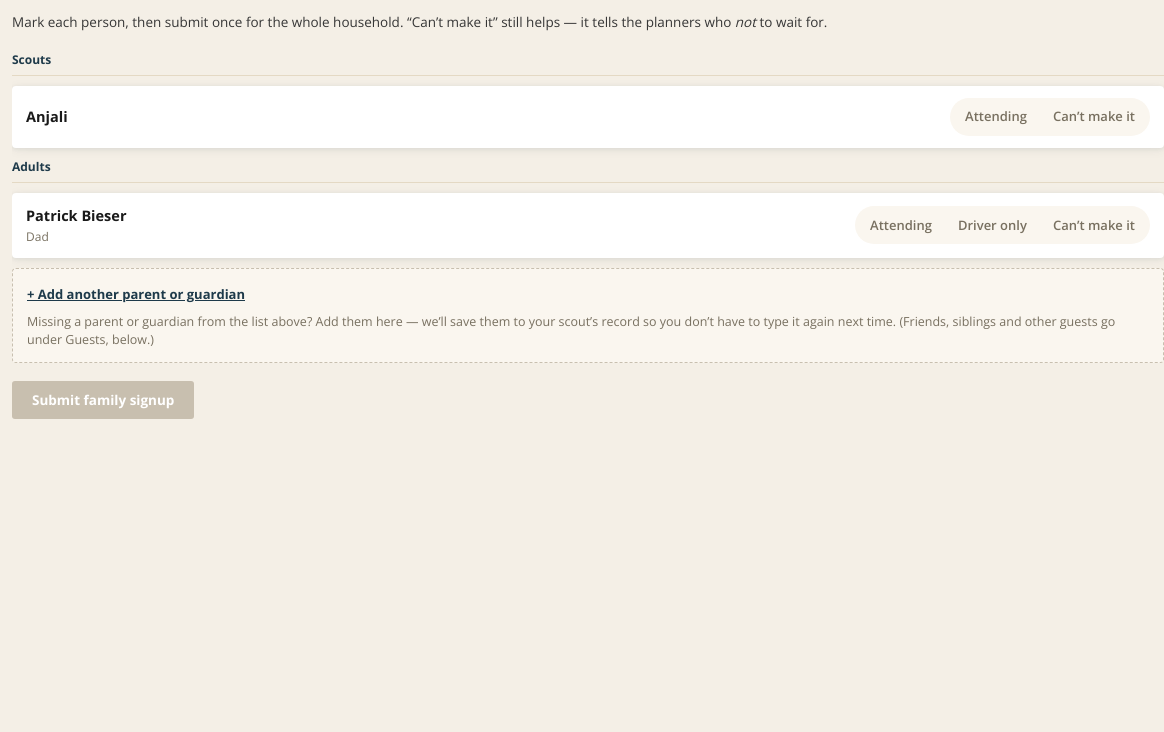
Test: PersonFirstForm — leg times › EarlierChoice_OnTheBackLeg_IsOfferedBesideTheStatus
The image size is (1164, 732).
Click the button "Attending" in the row of "Anjali" at (996, 117), box [953,101,1039,133]
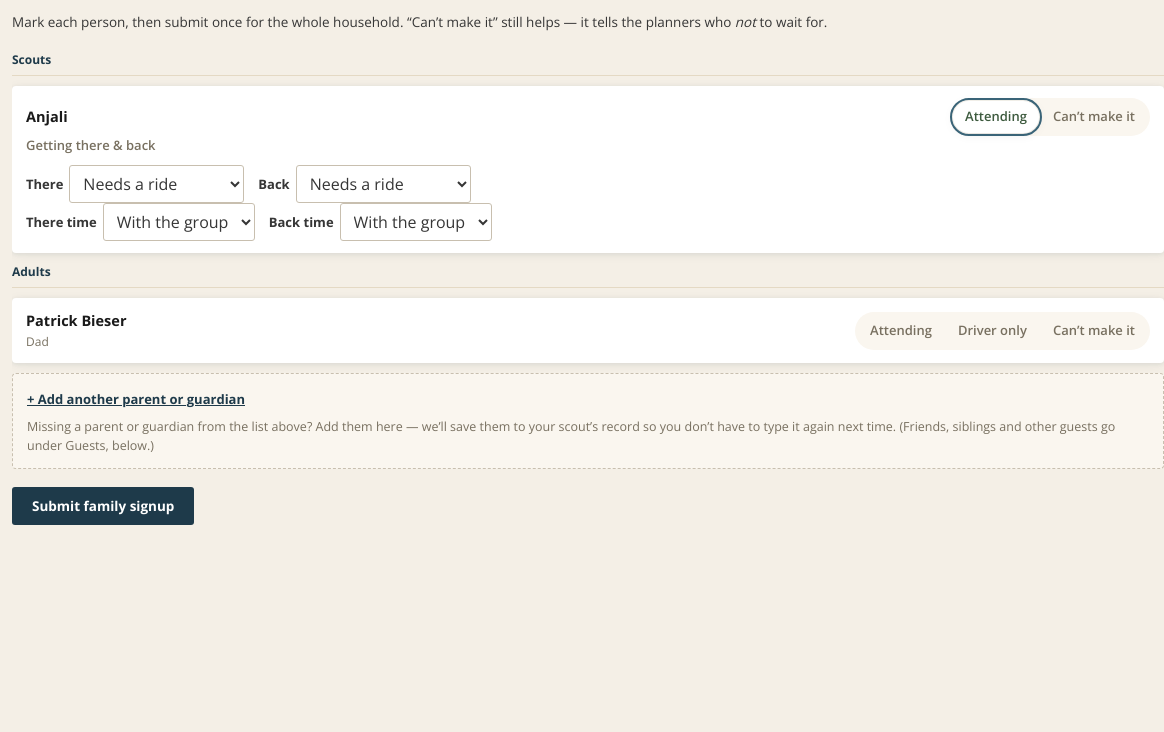
Check: the dropdown named "Anjali — back" is shown, box [296,165,471,203]
